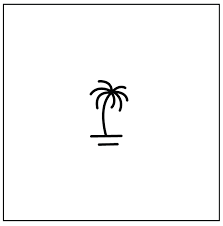tree: (70, 66, 139, 147)
